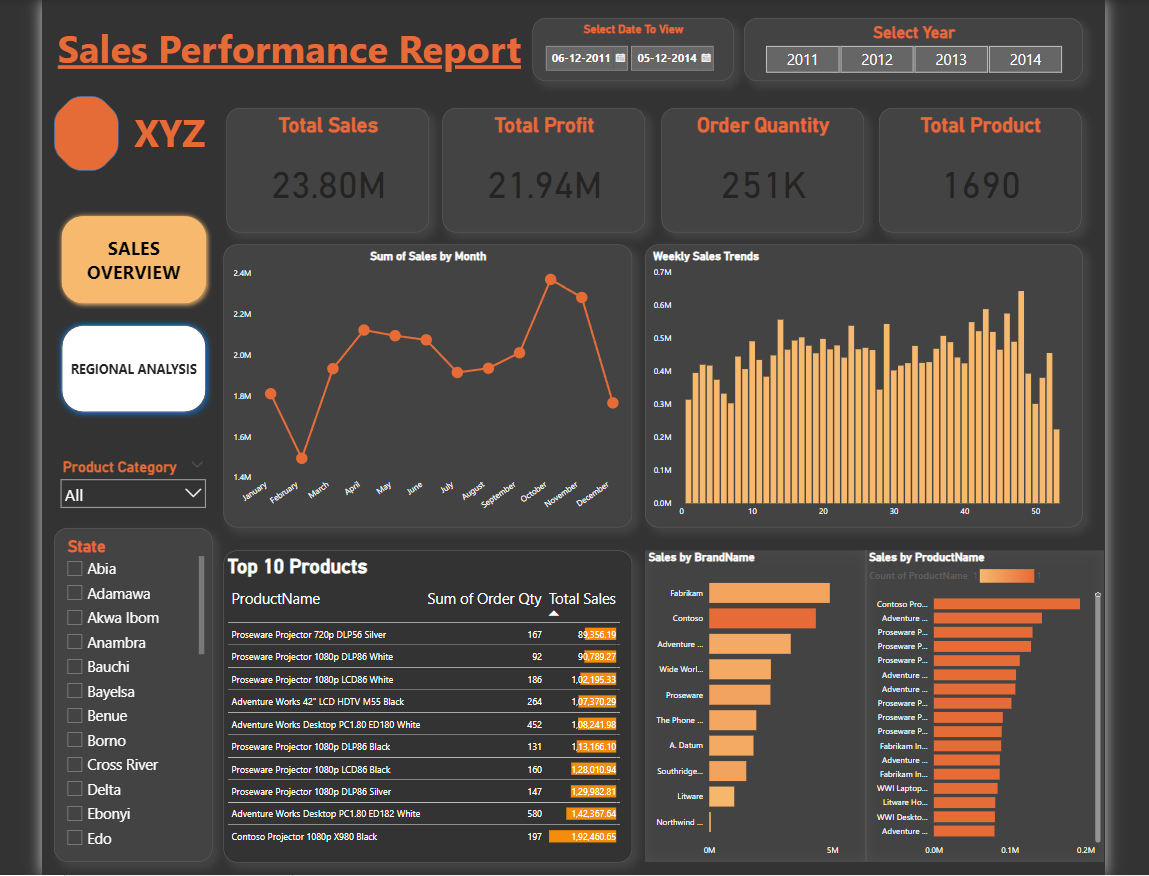

What the dashboard file says about the page in this screenshot:
{"tool":"powerbi","page":{"name":"SALES OVERVIEW","canvas":[1560,1284],"ordinal":0},"visuals":[{"type":"lineChart","fields":{"Y":["Sum(Sales_Data.Sales)"],"Category":["Sales_Data.Order Date.Variation.Date Hierarchy.Month"]},"box":[267.5,360,600,415],"z":0},{"type":"clusteredColumnChart","title":"Weekly Sales Trends","fields":{"Y":["Sum(Sales_Data.Sales)"],"Category":["Sales_Data.weak"]},"box":[885,360,642.5,415],"z":1000},{"type":"barChart","title":"Sales by BrandName","fields":{"Category":["Sales_Product.BrandName"],"Y":["Sum(Sales_Data.Sales)"]},"box":[885,807.5,325,457.5],"z":2000},{"type":"barChart","title":"Sales by ProductName","fields":{"Category":["Sales_Product.ProductName"],"Y":["Sum(Sales_Data.Sales)"]},"box":[1210,807.5,350,457.5],"z":3000},{"type":"card","title":"Total Sales","fields":{"Values":["Sales_Data.Total Sales"]},"box":[270,157.5,297.5,182.5],"z":4000},{"type":"tableEx","title":"Top 10 Products","fields":{"Values":["Sales_Product.ProductName","Sum(Sales_Data.Order Qty)","Sales_Data.Total Sales"]},"box":[267.5,807.5,600,458],"z":5000},{"type":"slicer","fields":{"Values":["Sales_State1.State"]},"box":[17.5,775,232.5,490],"z":6000},{"type":"card","title":"Total Profit","fields":{"Values":["Sum(Sales_Data.Profit)"]},"box":[587.5,157.5,297.5,182.5],"z":7000},{"type":"card","title":"Order Quantity","fields":{"Values":["Sum(Sales_Data.Order Qty)"]},"box":[910,157.5,297.5,182.5],"z":8000},{"type":"card","title":"Total Product","fields":{"Values":["CountNonNull(Sales_Product.ProductName)"]},"box":[1230,157.5,297.5,182.5],"z":9000},{"type":"slicer","title":"Select Year","fields":{"Values":["Sales_Data.Order Date.Variation.Date Hierarchy.Year"]},"box":[1030,27.5,497.5,92.5],"z":10000},{"type":"textbox","box":[17.5,27.5,700,112.5],"z":11000},{"type":"shape","box":[17.5,140,95,110],"z":12000},{"type":"textbox","box":[130,150,137.5,87.5],"z":13000},{"type":"slicer","title":"Select Date To View","fields":{"Values":["Sales_Data.Order Date"]},"box":[720,27.5,295,92.5],"z":14000},{"type":"slicer","fields":{"Values":["Sales_Product_Sub_Cat.Product Category"]},"box":[17.5,667.5,232.5,90],"z":15000},{"type":"pageNavigator","box":[20,307.5,230,307.5],"z":16000}]}

Visuals, with their boxes on the page's 1560x1284 design canvas (x1, y1, x2, y2). These are canvas units, not pixel positions in the 1149x876 screenshot, which may show the page scaled, cropped or inside an application window:
lineChart - Sum(Sales_Data.Sales) x Sales_Data.Order Date.Variation.Date Hierarchy.Month: crop(268, 360, 868, 775)
"Weekly Sales Trends" clusteredColumnChart: crop(885, 360, 1528, 775)
"Sales by BrandName" barChart: crop(885, 808, 1210, 1265)
"Sales by ProductName" barChart: crop(1210, 808, 1560, 1265)
"Total Sales" card: crop(270, 158, 568, 340)
"Top 10 Products" tableEx: crop(268, 808, 868, 1266)
slicer - Sales_State1.State: crop(18, 775, 250, 1265)
"Total Profit" card: crop(588, 158, 885, 340)
"Order Quantity" card: crop(910, 158, 1208, 340)
"Total Product" card: crop(1230, 158, 1528, 340)
"Select Year" slicer: crop(1030, 28, 1528, 120)
textbox: crop(18, 28, 718, 140)
shape: crop(18, 140, 112, 250)
textbox: crop(130, 150, 268, 238)
"Select Date To View" slicer: crop(720, 28, 1015, 120)
slicer - Sales_Product_Sub_Cat.Product Category: crop(18, 668, 250, 758)
pageNavigator: crop(20, 308, 250, 615)
